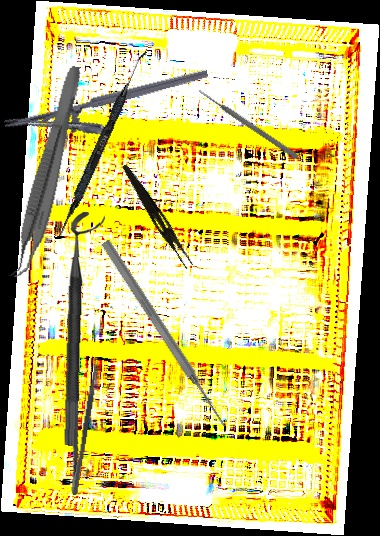Dressing Forceps: (116, 162, 198, 271), (57, 363, 99, 496)
Fixation Ring: (62, 211, 106, 447)
Needle Holder: (3, 68, 216, 157)
Pusher: (98, 238, 231, 430), (196, 87, 301, 161)
Spatula Surgical: (55, 47, 148, 241)
Tissue Forceps: (6, 61, 85, 283)
